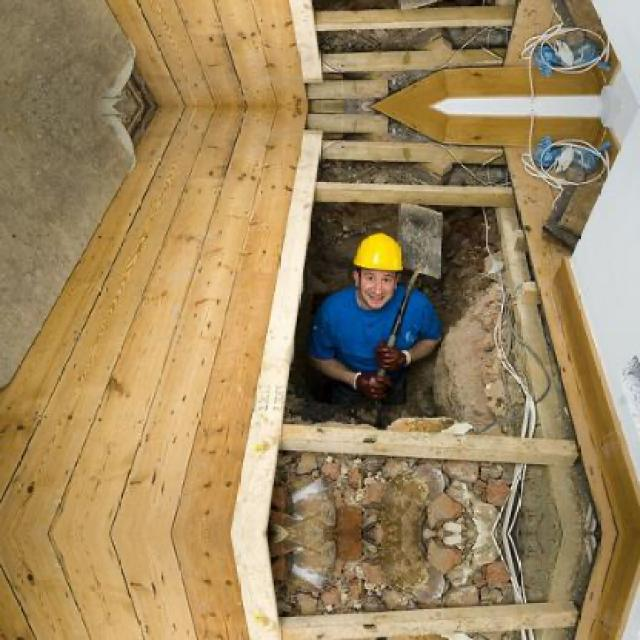helmet: (343, 224, 411, 307)
